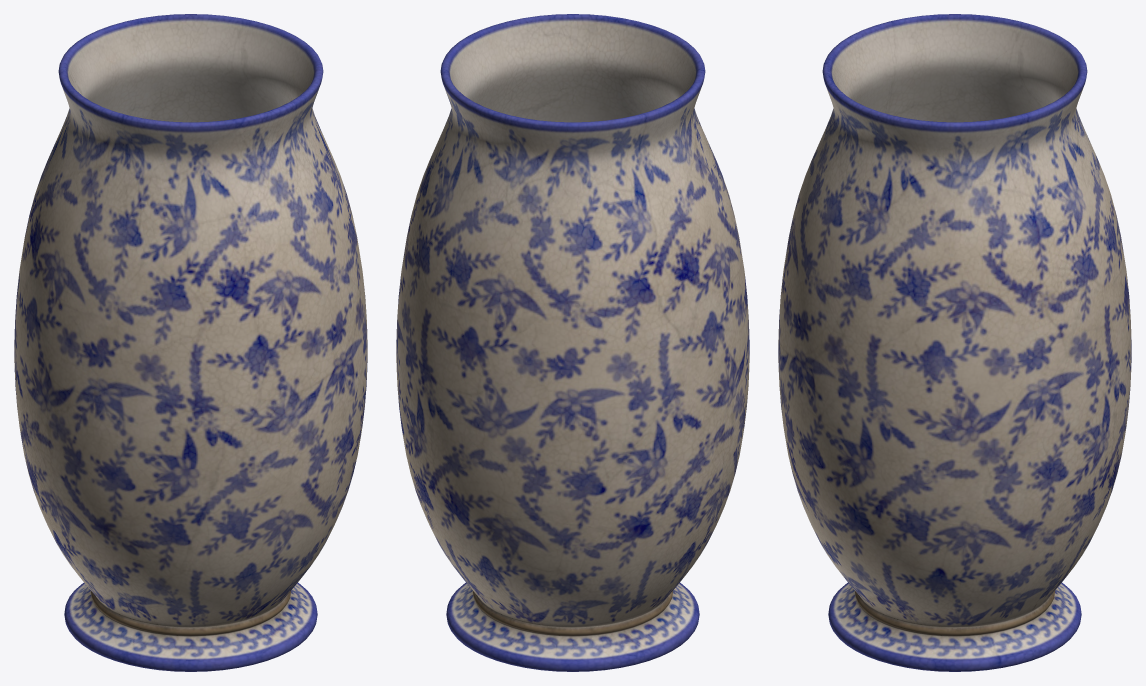
The model's file is 4k_antique_ceramic_vase.glb.
3 renders of one model, left to right at view 1: azimuth 30°, elevation 25°; view 2: azimuth 150°, elevation 25°; view 3: azimuth 270°, elevation 25°, orthographic.
Parts seen in each view (by area): view 1: antique_ceramic_vase_01; view 2: antique_ceramic_vase_01; view 3: antique_ceramic_vase_01.
Part boxes in pixels (x1,y1,x2,y2): antique_ceramic_vase_01: [14, 14, 367, 671]; antique_ceramic_vase_01: [396, 14, 749, 671]; antique_ceramic_vase_01: [778, 14, 1131, 671].
Bounding box in the file's own units: 0.255 × 0.4396 × 0.255.
Materials: 1 (1 with a texture image).
